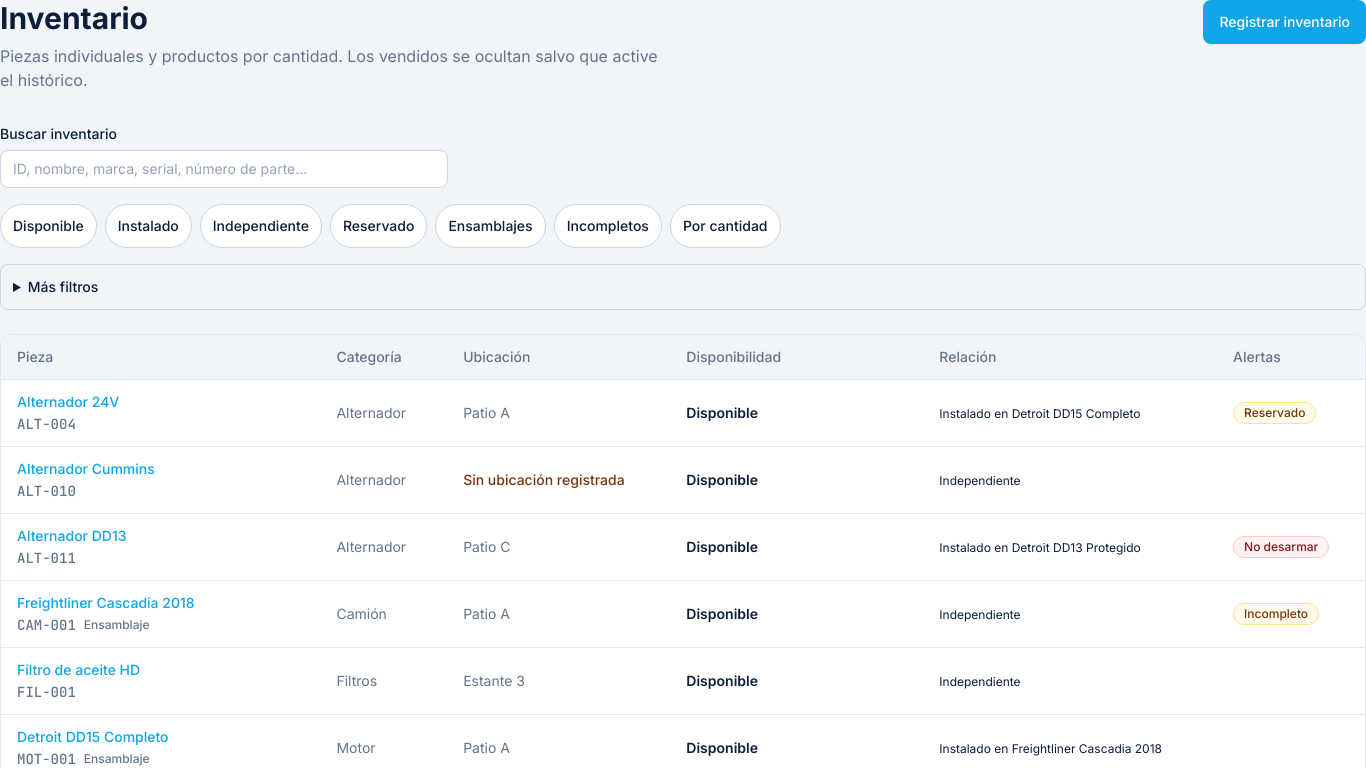
Test case: InventoryPage › shows category-defined attribute fields instead of a free-text box
Expected: the text "Filtro de aceite HD" is shown, [17,661,140,678]
Step 1. Click the button "Registrar inventario" → (1285, 22), box [1204,0,1365,44]
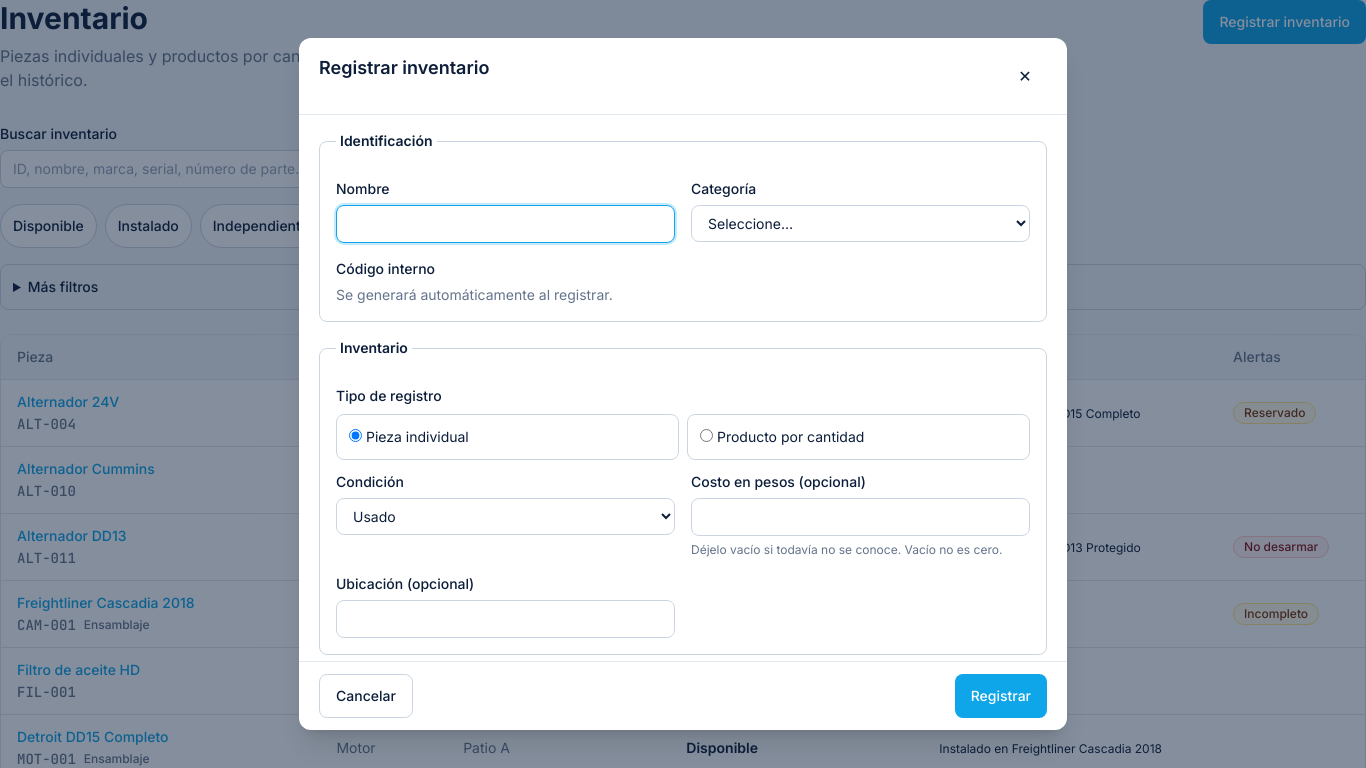
Step 2. Select "Goma" in the dropdown labelled "Categoría" → (860, 224), box [691,205,1030,242]
(page scrolled)
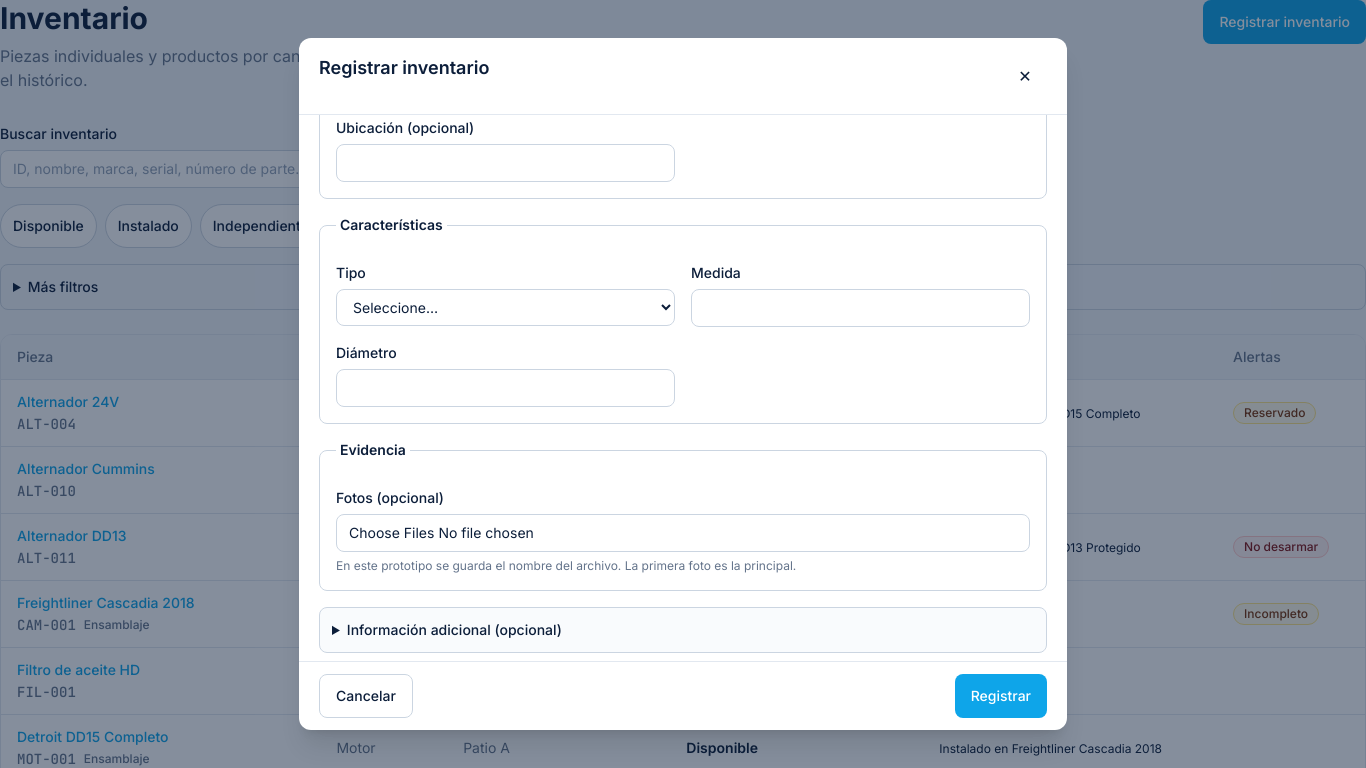
Expected: the dropdown labelled "Tipo" is shown, [336,289,675,326]
Expected: the field labelled "Medida" is shown, [691,289,1030,327]
Expected: the field labelled "Diámetro" is shown, [336,369,675,407]
